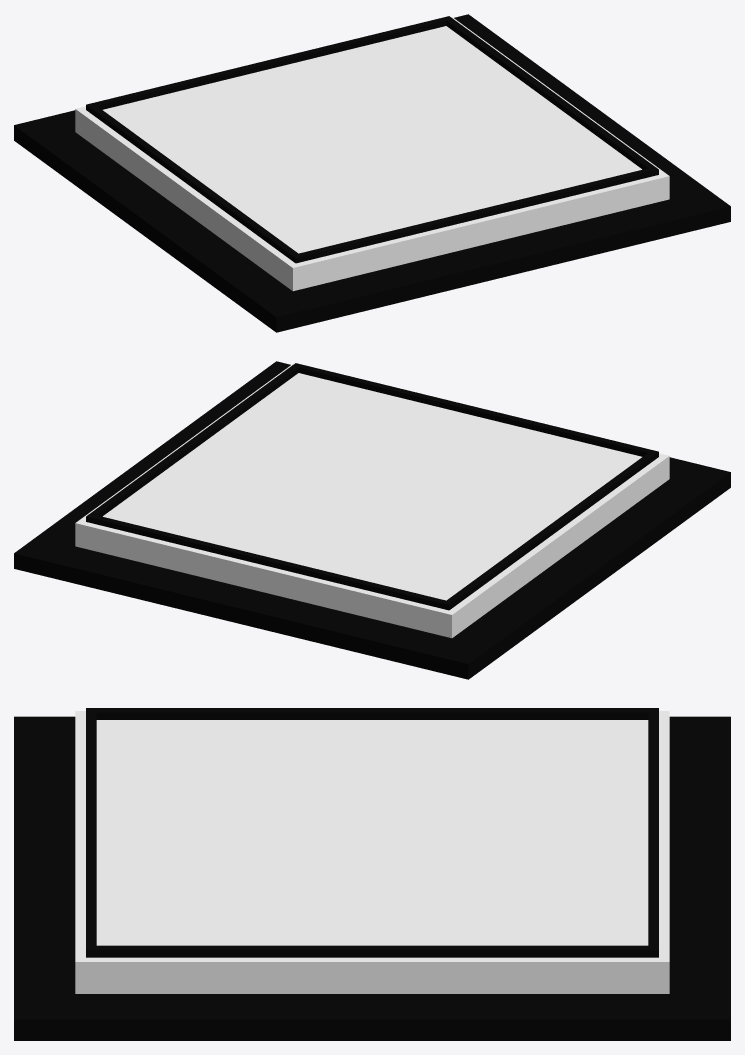
Rendered from stage_base.fbx.
3 views of the same model, one above another, from view 1: azimuth 30°, elevation 25°; view 2: azimuth 150°, elevation 25°; view 3: azimuth 270°, elevation 25° (orthographic). The views are drawn at different scales.
Visible parts, largest first — view 1: Mesh; view 2: Mesh; view 3: Mesh.
Part boxes in pixels (bbox=[...]): Mesh: bbox=[14, 14, 730, 332]; Mesh: bbox=[14, 361, 730, 679]; Mesh: bbox=[14, 708, 730, 1040].
Bounding box in the file's own units: 0.8 × 0.0743 × 0.8.
